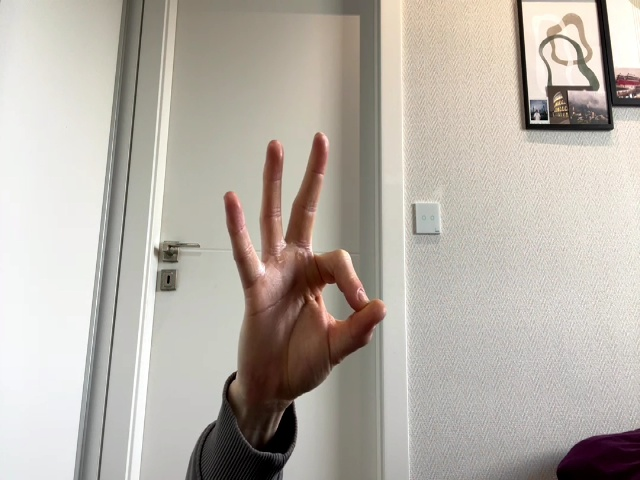O: (223, 131, 387, 395)
